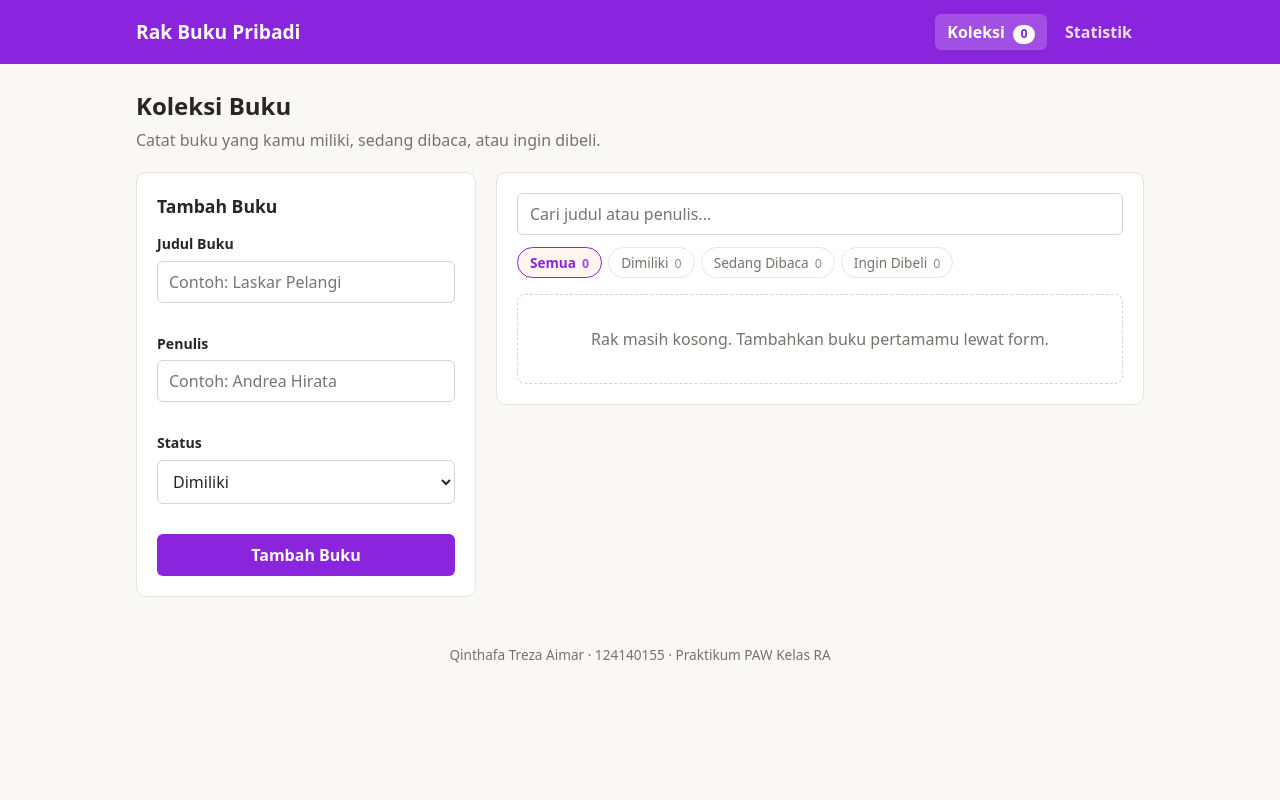
it: Aplikasi Rak Buku (integrasi) › berpindah ke halaman Statistik lewat navbar
In the field labelled "Judul Buku": point(306, 282) [157, 260, 455, 302], type "Bumi"
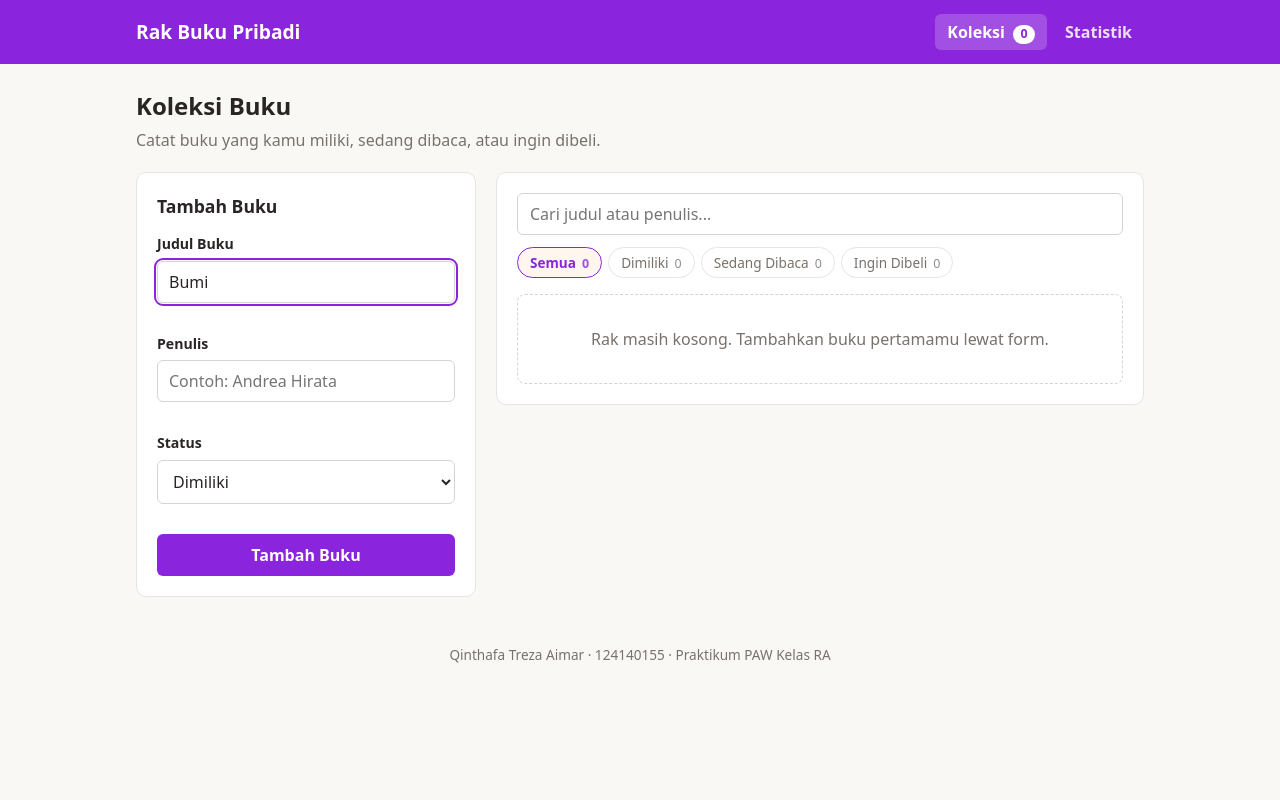
In the field labelled "Penulis": point(306, 381) [157, 360, 455, 402], type "Tere Liye"
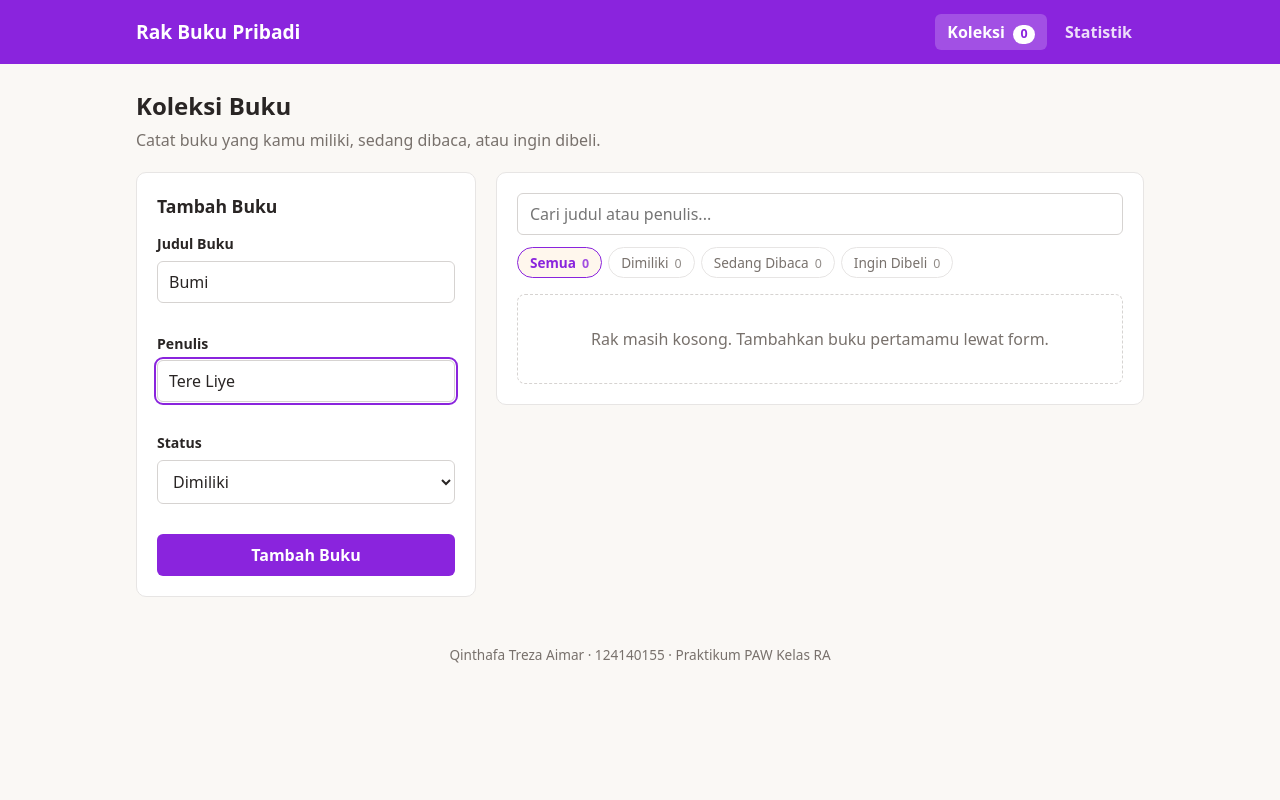
Select "Sedang Dibaca" in the dropdown labelled "Status": point(306, 482) [157, 460, 455, 504]
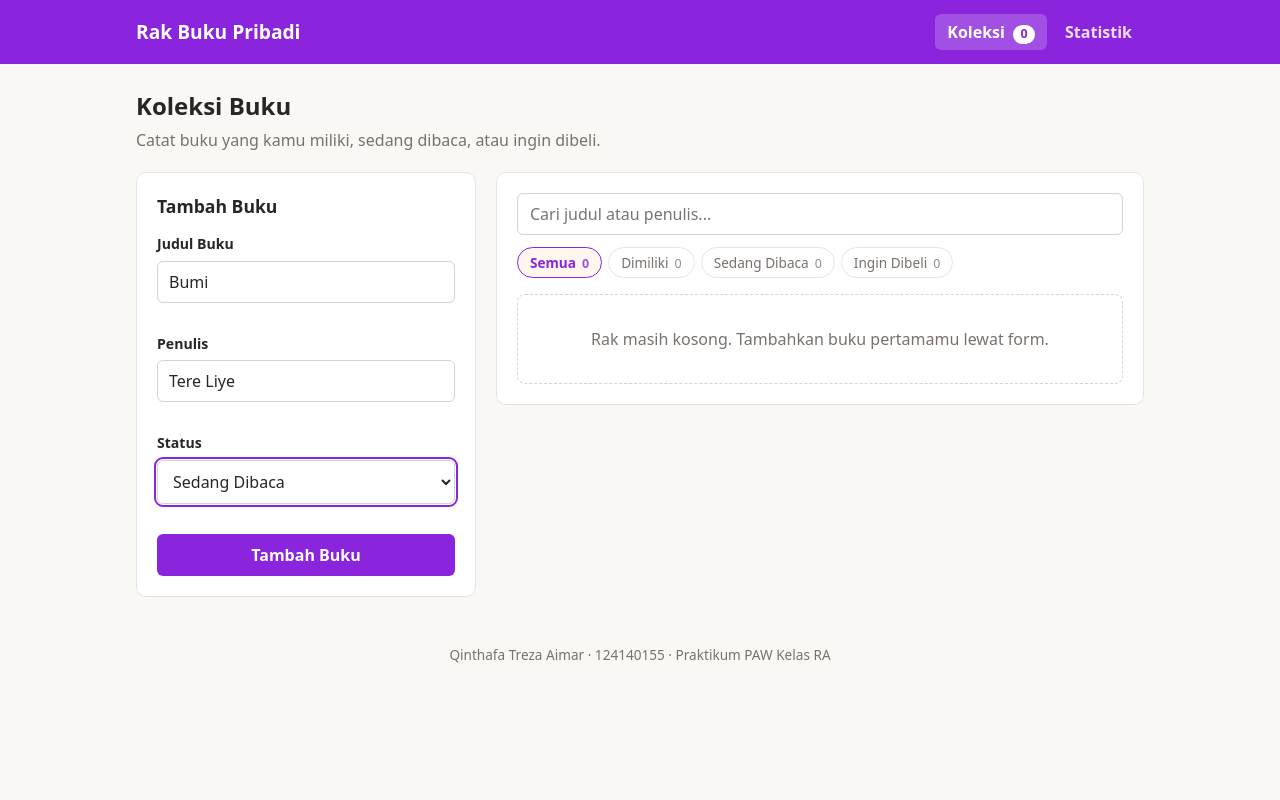
Click the button "Tambah Buku": point(306, 555) [157, 534, 455, 576]
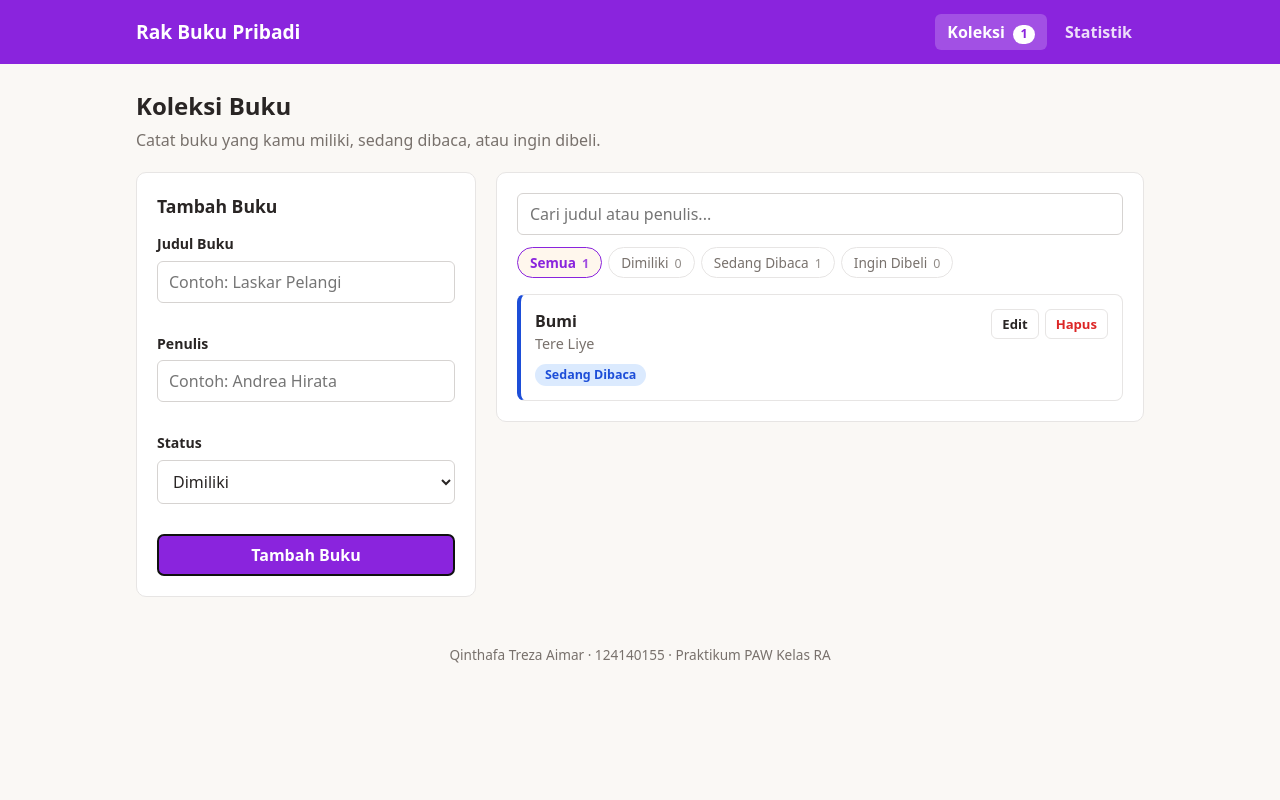
Click the link "Statistik": point(1098, 32) [1065, 21, 1132, 43]
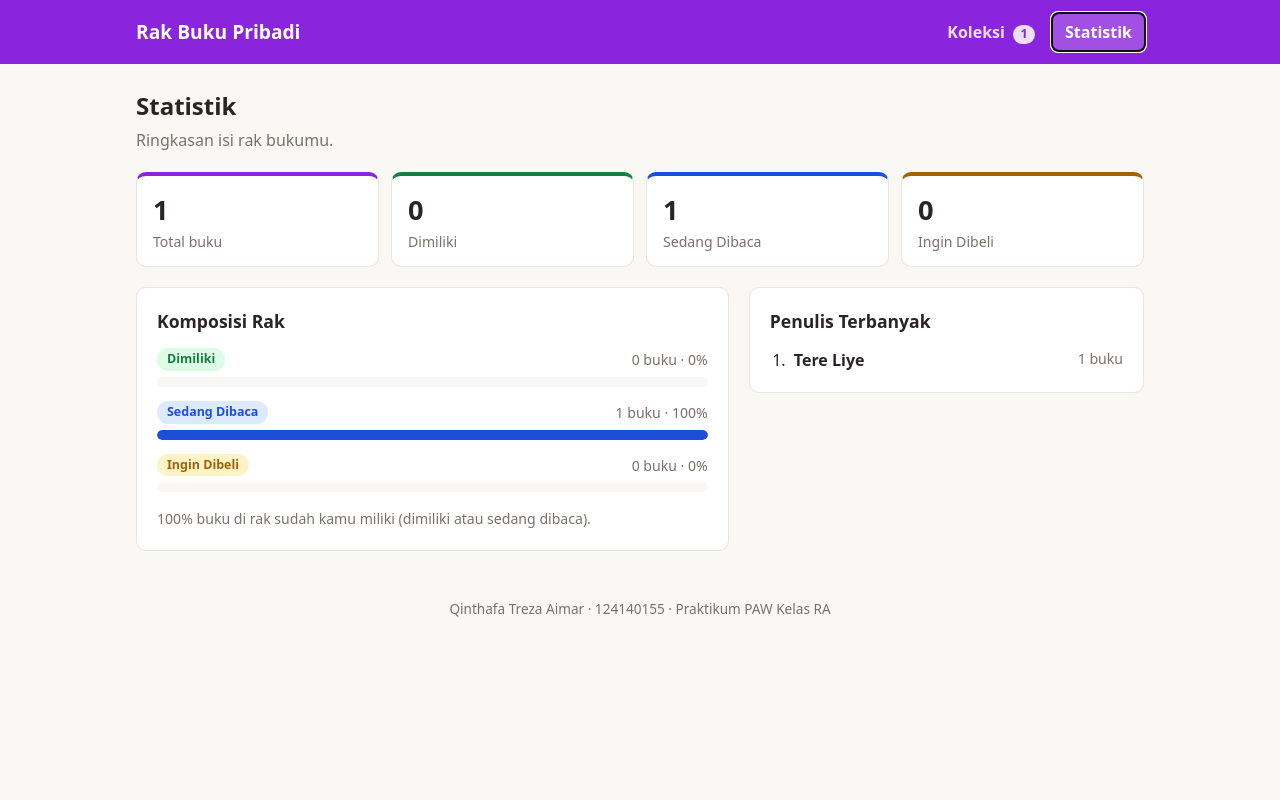
Now the heading "Statistik" is shown, box [136, 89, 236, 122]
Now the heading "Penulis Terbanyak" is shown, box [770, 309, 931, 333]
